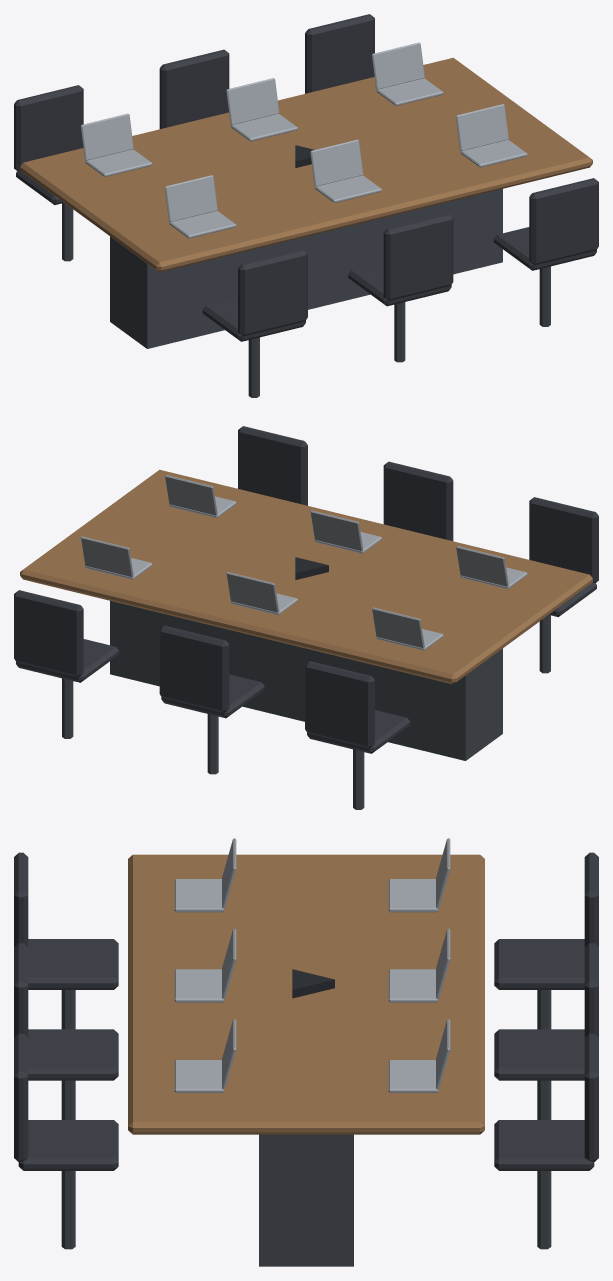
Rendered from meeting_table.glb.
3 renders of one model, top to bottom at view 1: azimuth 30°, elevation 25°; view 2: azimuth 150°, elevation 25°; view 3: azimuth 270°, elevation 25°, orthographic. The views are drawn at different scales.
Parts seen in each view (by area): view 1: meeting_table_mesh; view 2: meeting_table_mesh; view 3: meeting_table_mesh.
Boxes of the visible parts, x1=… form: meeting_table_mesh: x1=14, y1=14, x2=598, y2=397; meeting_table_mesh: x1=14, y1=426, x2=598, y2=809; meeting_table_mesh: x1=14, y1=838, x2=598, y2=1266.
Bounding box in the file's own units: 2.7 × 0.9892 × 2.46.
